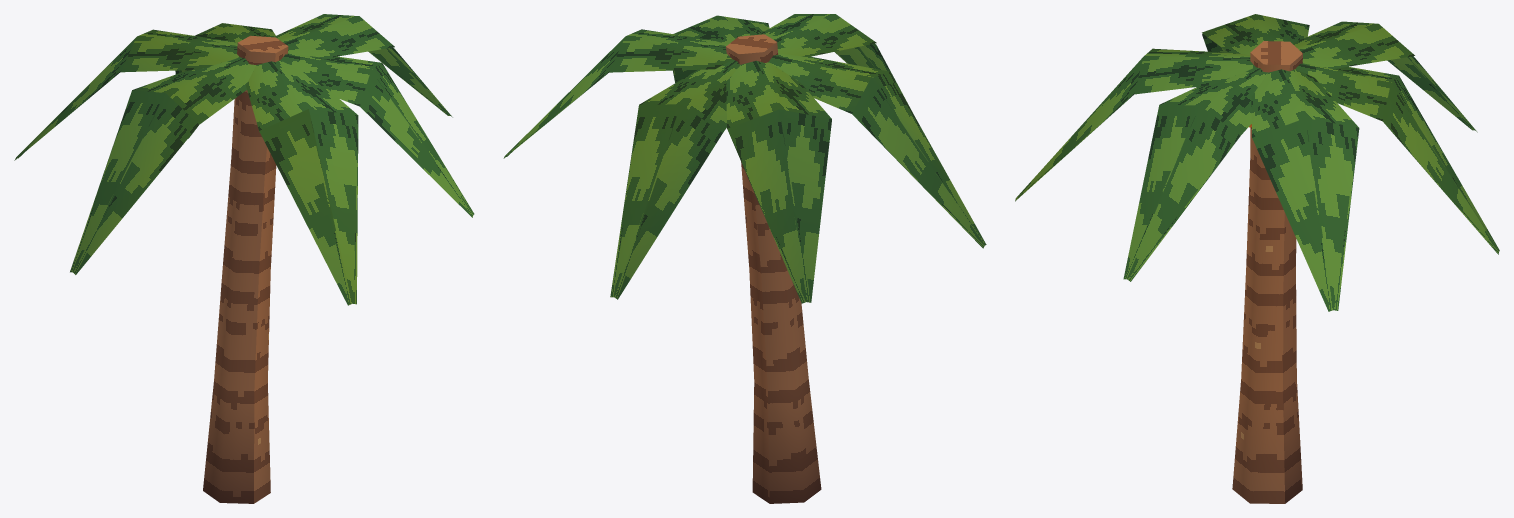
File: wild.palm__young.glb
3 views of the same model, side by side, from view 1: azimuth 30°, elevation 25°; view 2: azimuth 150°, elevation 25°; view 3: azimuth 270°, elevation 25° (orthographic). The views are drawn at different scales.
Parts seen in each view (by area): view 1: kit_shell_crown, kit_trunk; view 2: kit_shell_crown, kit_trunk; view 3: kit_shell_crown, kit_trunk.
Part boxes in pixels (bbox=[...]): kit_shell_crown: bbox=[14, 14, 474, 305]; kit_trunk: bbox=[203, 35, 288, 503]; kit_shell_crown: bbox=[503, 14, 986, 303]; kit_trunk: bbox=[726, 34, 821, 503]; kit_shell_crown: bbox=[1015, 14, 1499, 311]; kit_trunk: bbox=[1232, 41, 1302, 503].
Bounding box in the file's own units: 3.49 × 3.43 × 3.31.
Materials: 3 (3 with a texture image).
